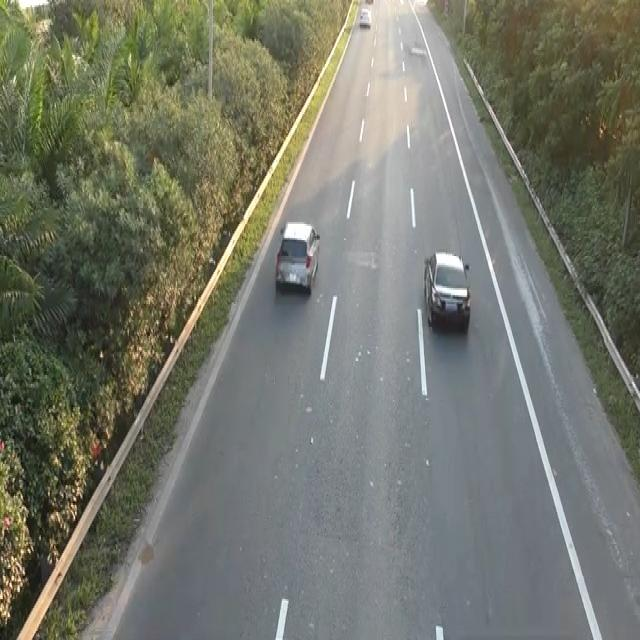bus: (421, 245, 473, 332), (273, 217, 321, 293)
